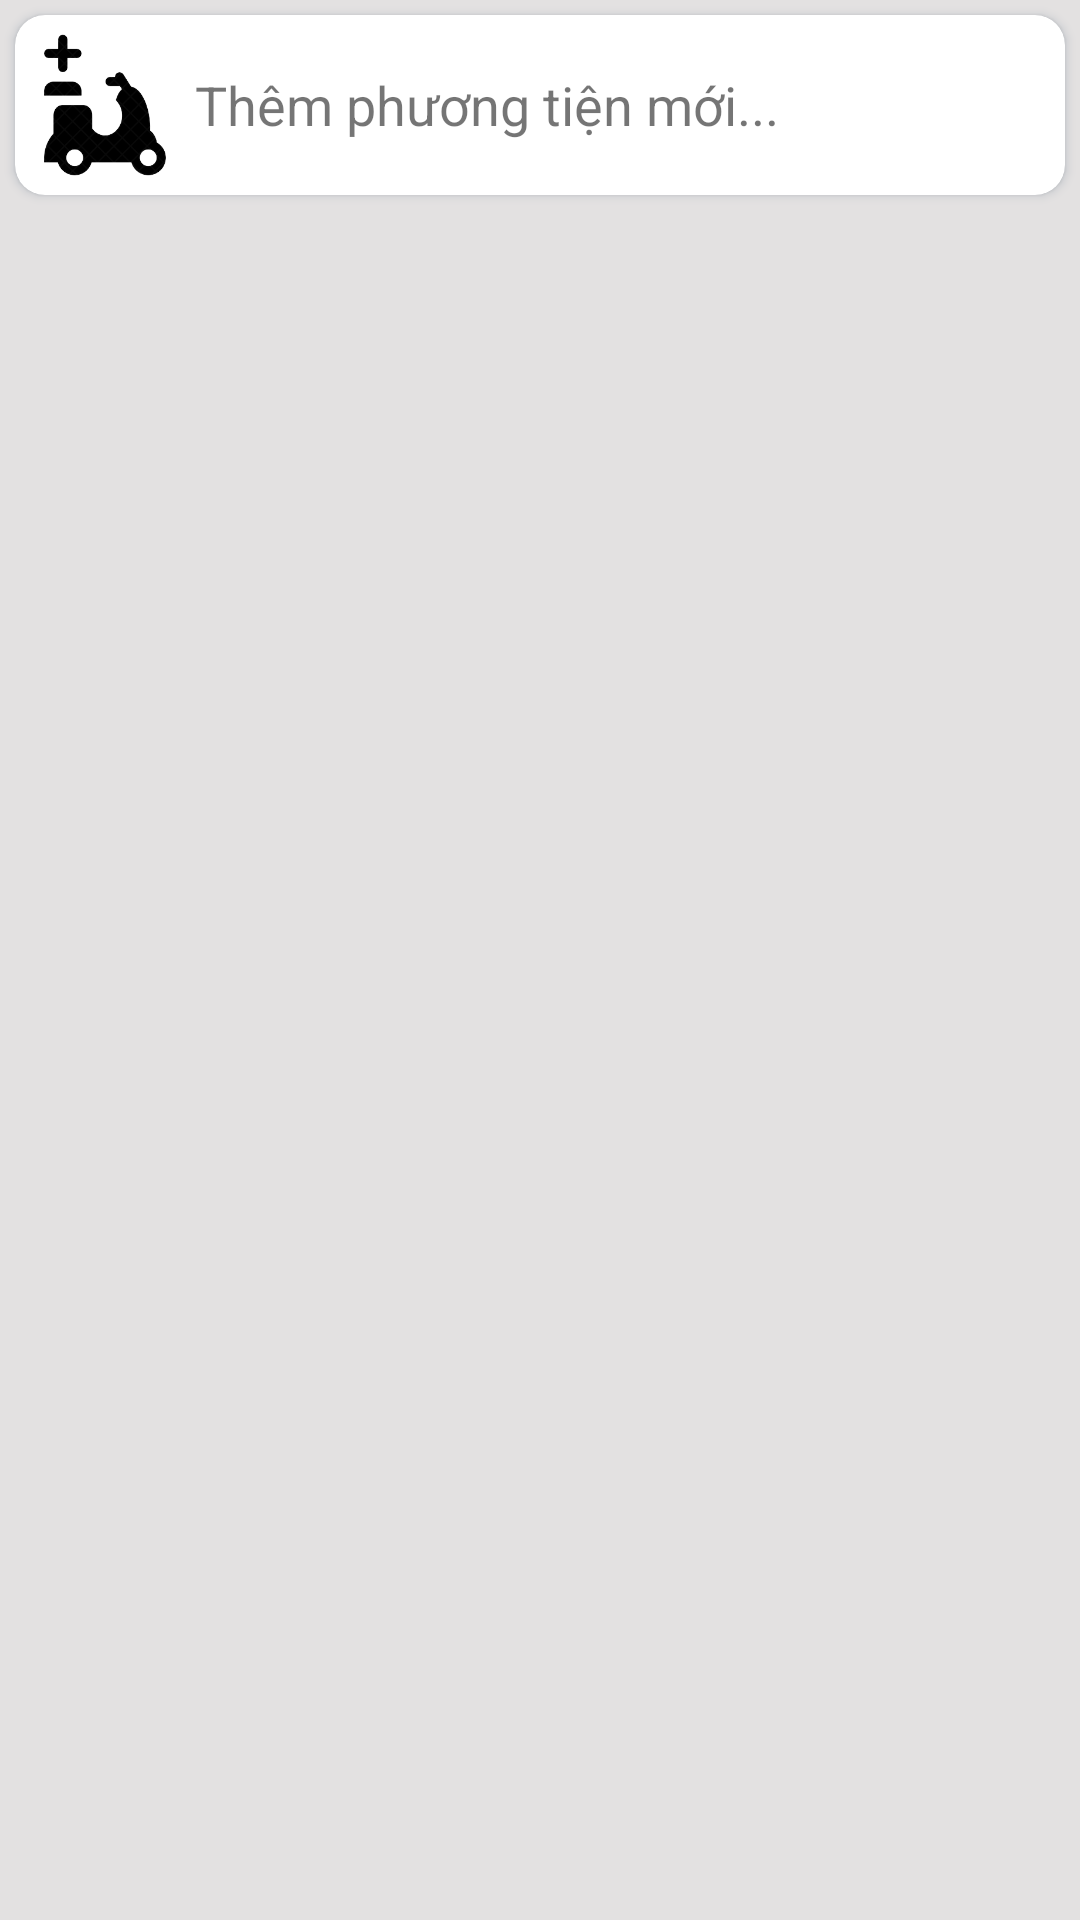

Icons on this 1080 × 1920 Android screen, each with the point to tap as (x=x, y=y):
motorcycleadd: (x=105, y=105)
